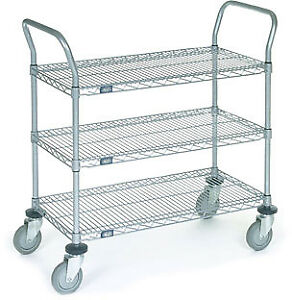Carts: (12, 1, 278, 295)
